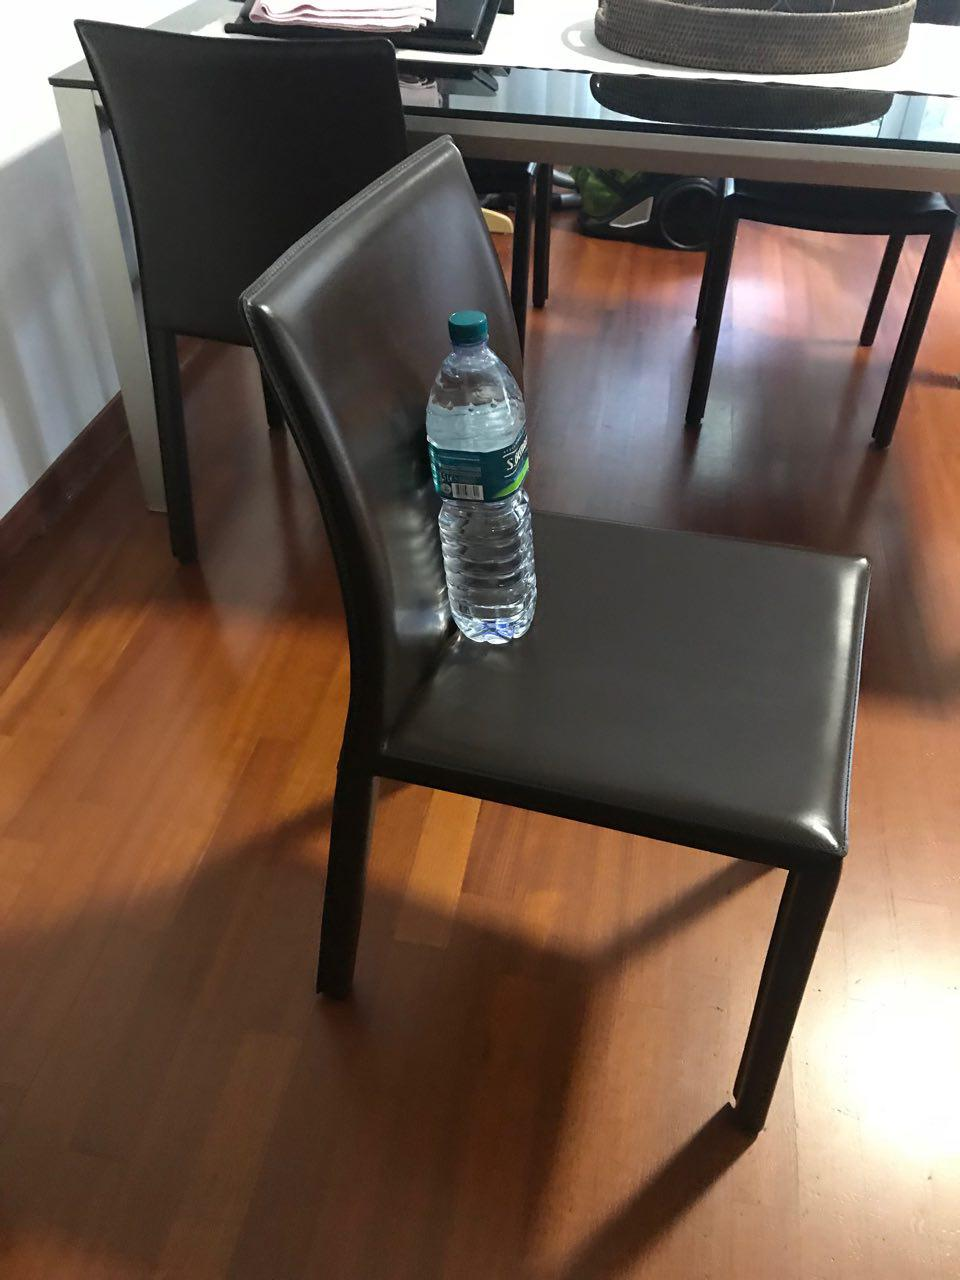san_bernardo: (424, 309, 538, 645)
